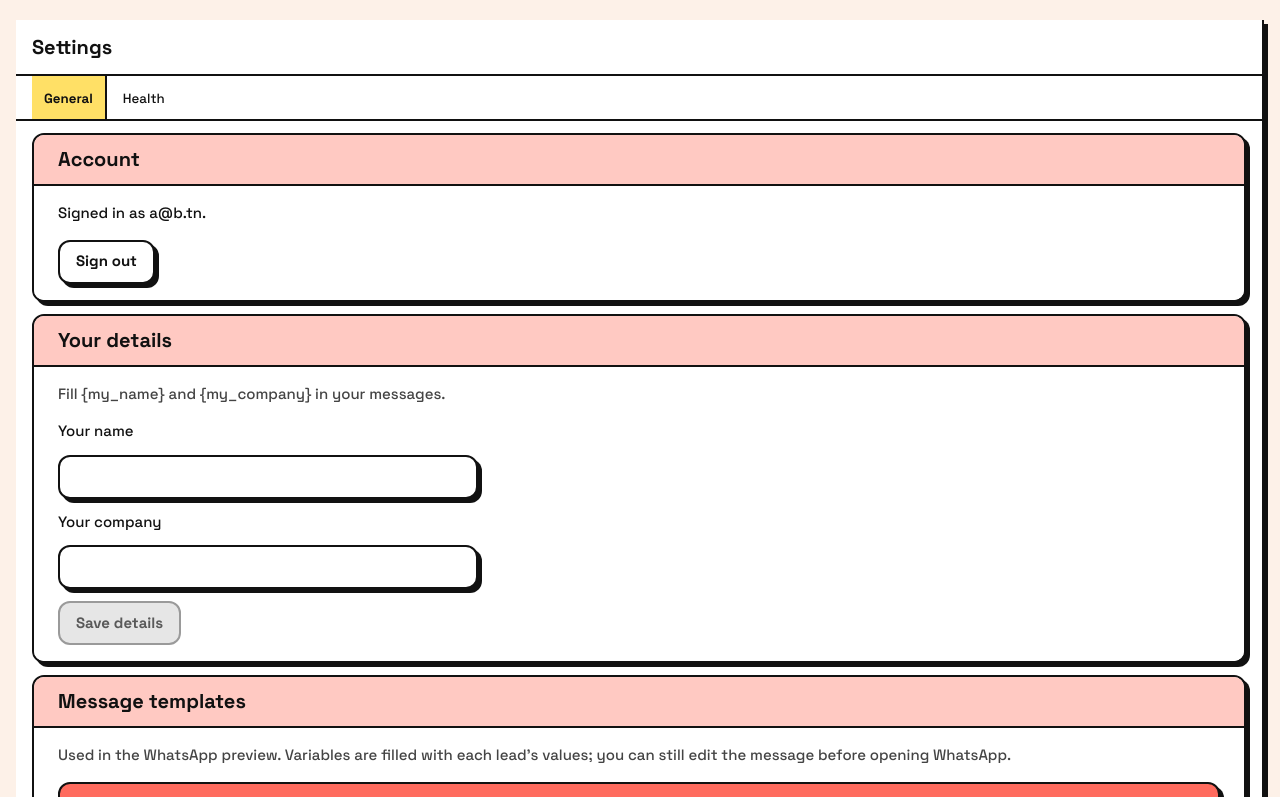
Scenario: Settings › opens on General and switches to Health
Expected: the tab "General" is shown, [32, 76, 107, 120]
Click the tab "Health". click: (144, 98)
box: [111, 76, 177, 120]
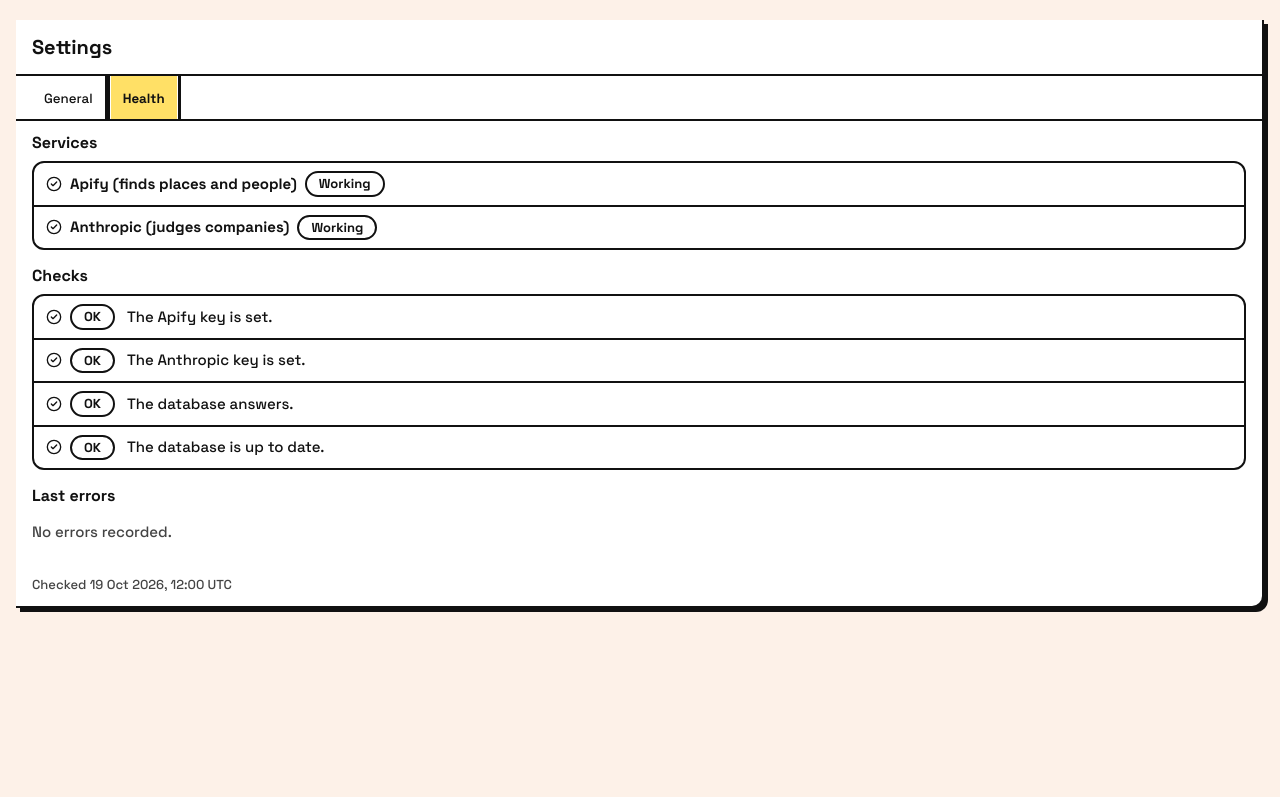
Expected: the text "Apify (finds places and people)" is shown, [70, 172, 297, 195]
